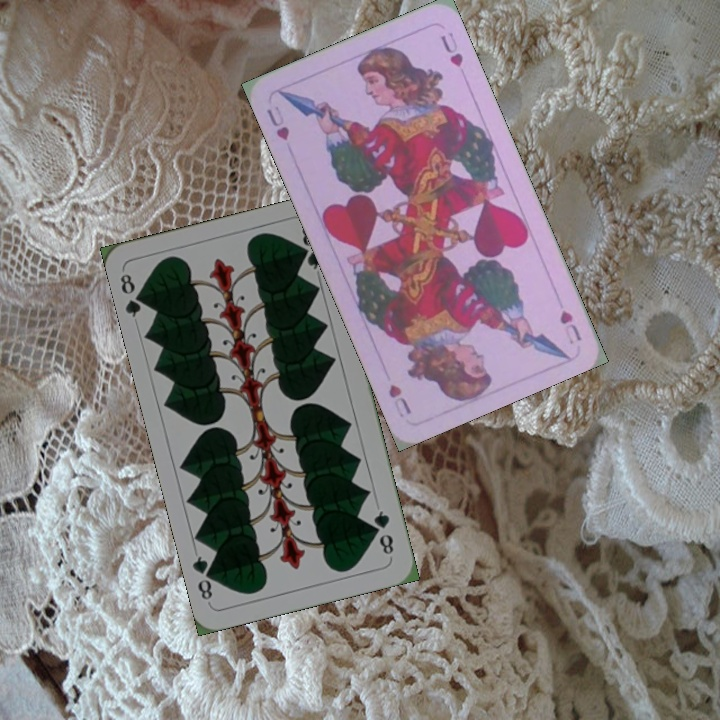G8: (116, 269, 150, 320), (369, 506, 396, 558)
HU: (262, 101, 292, 143), (555, 305, 584, 344)
